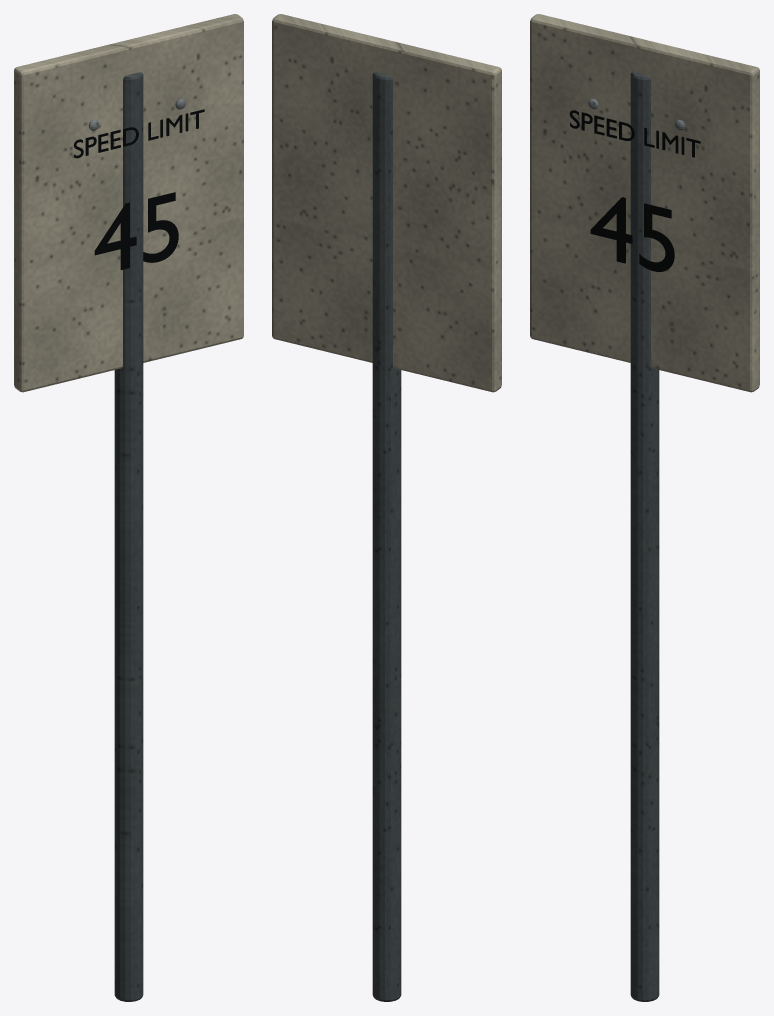
File: PROP-75AC14A98E6C_lod0.glb
The picture shows the model from 3 angles, left to right: view 1: azimuth 30°, elevation 25°; view 2: azimuth 150°, elevation 25°; view 3: azimuth 330°, elevation 25°; orthographic projection.
Parts seen in each view (by area): view 1: sign_plate.019, sign_post.026, sign_letters_45, sign_letters_SPEED LIMIT.002; view 2: sign_plate.019, sign_post.026; view 3: sign_plate.019, sign_post.026, sign_letters_45, sign_letters_SPEED LIMIT.002.
Boxes of the visible parts, x1,y1,x2,y2 form: sign_plate.019: (14, 14, 243, 392); sign_post.026: (114, 72, 143, 1001); sign_letters_45: (94, 192, 178, 269); sign_letters_SPEED LIMIT.002: (73, 109, 204, 158); sign_plate.019: (272, 14, 501, 392); sign_post.026: (372, 72, 401, 1001); sign_plate.019: (530, 14, 759, 392); sign_post.026: (630, 72, 659, 1001); sign_letters_45: (590, 197, 674, 271); sign_letters_SPEED LIMIT.002: (569, 110, 700, 157).
Size of the model in its own units: 0.62 by 2.52 by 0.084.
4 materials, 4 textured.
